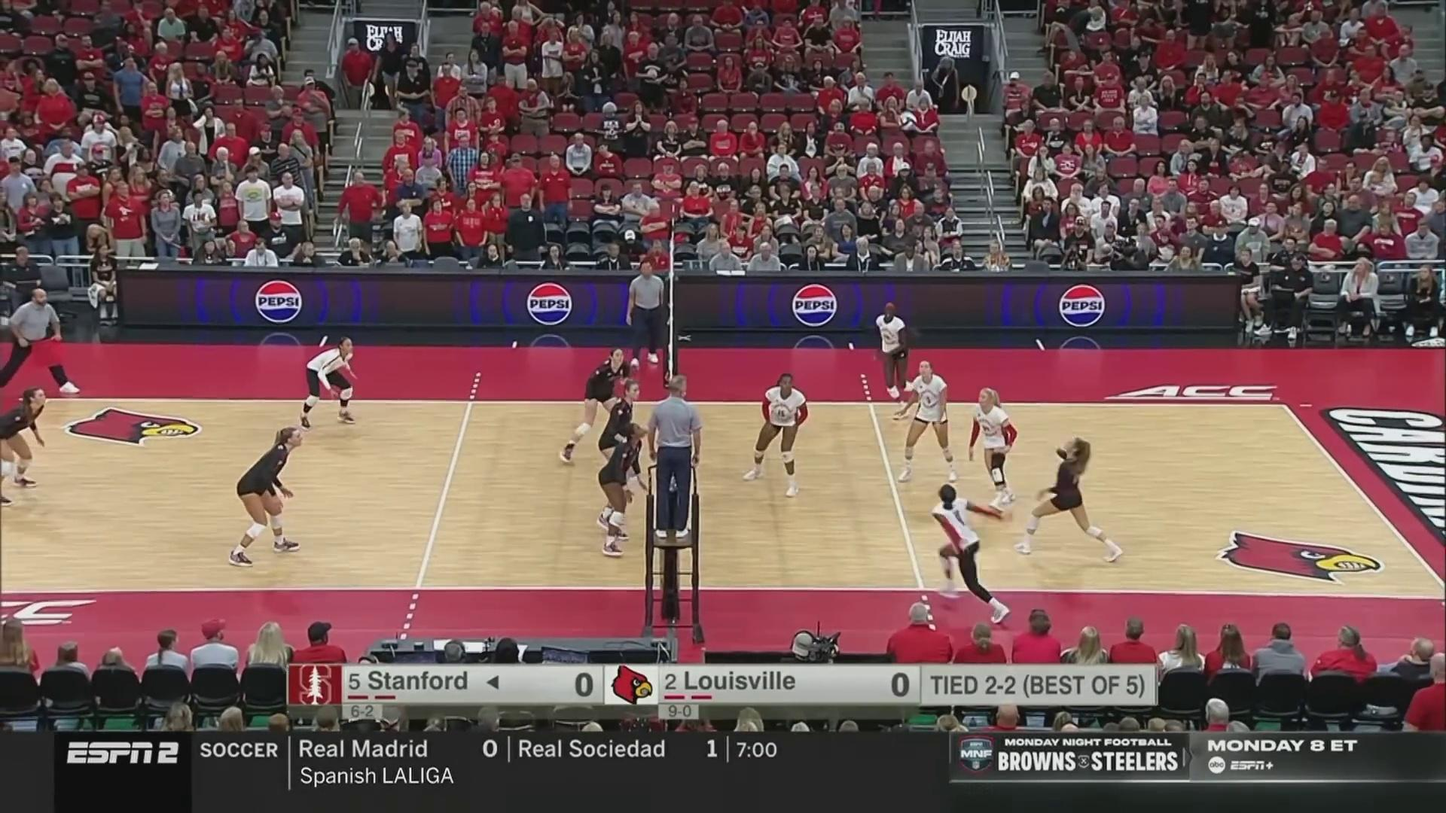player: (1014, 437, 1125, 560), (934, 485, 1009, 624), (233, 429, 308, 568), (562, 348, 636, 465), (894, 360, 962, 484), (741, 375, 808, 498), (874, 303, 936, 417), (597, 424, 644, 556), (969, 387, 1018, 510), (597, 375, 642, 507), (0, 387, 49, 506), (299, 336, 361, 426)
refree: (645, 379, 702, 535), (0, 287, 81, 396), (627, 263, 667, 367)
